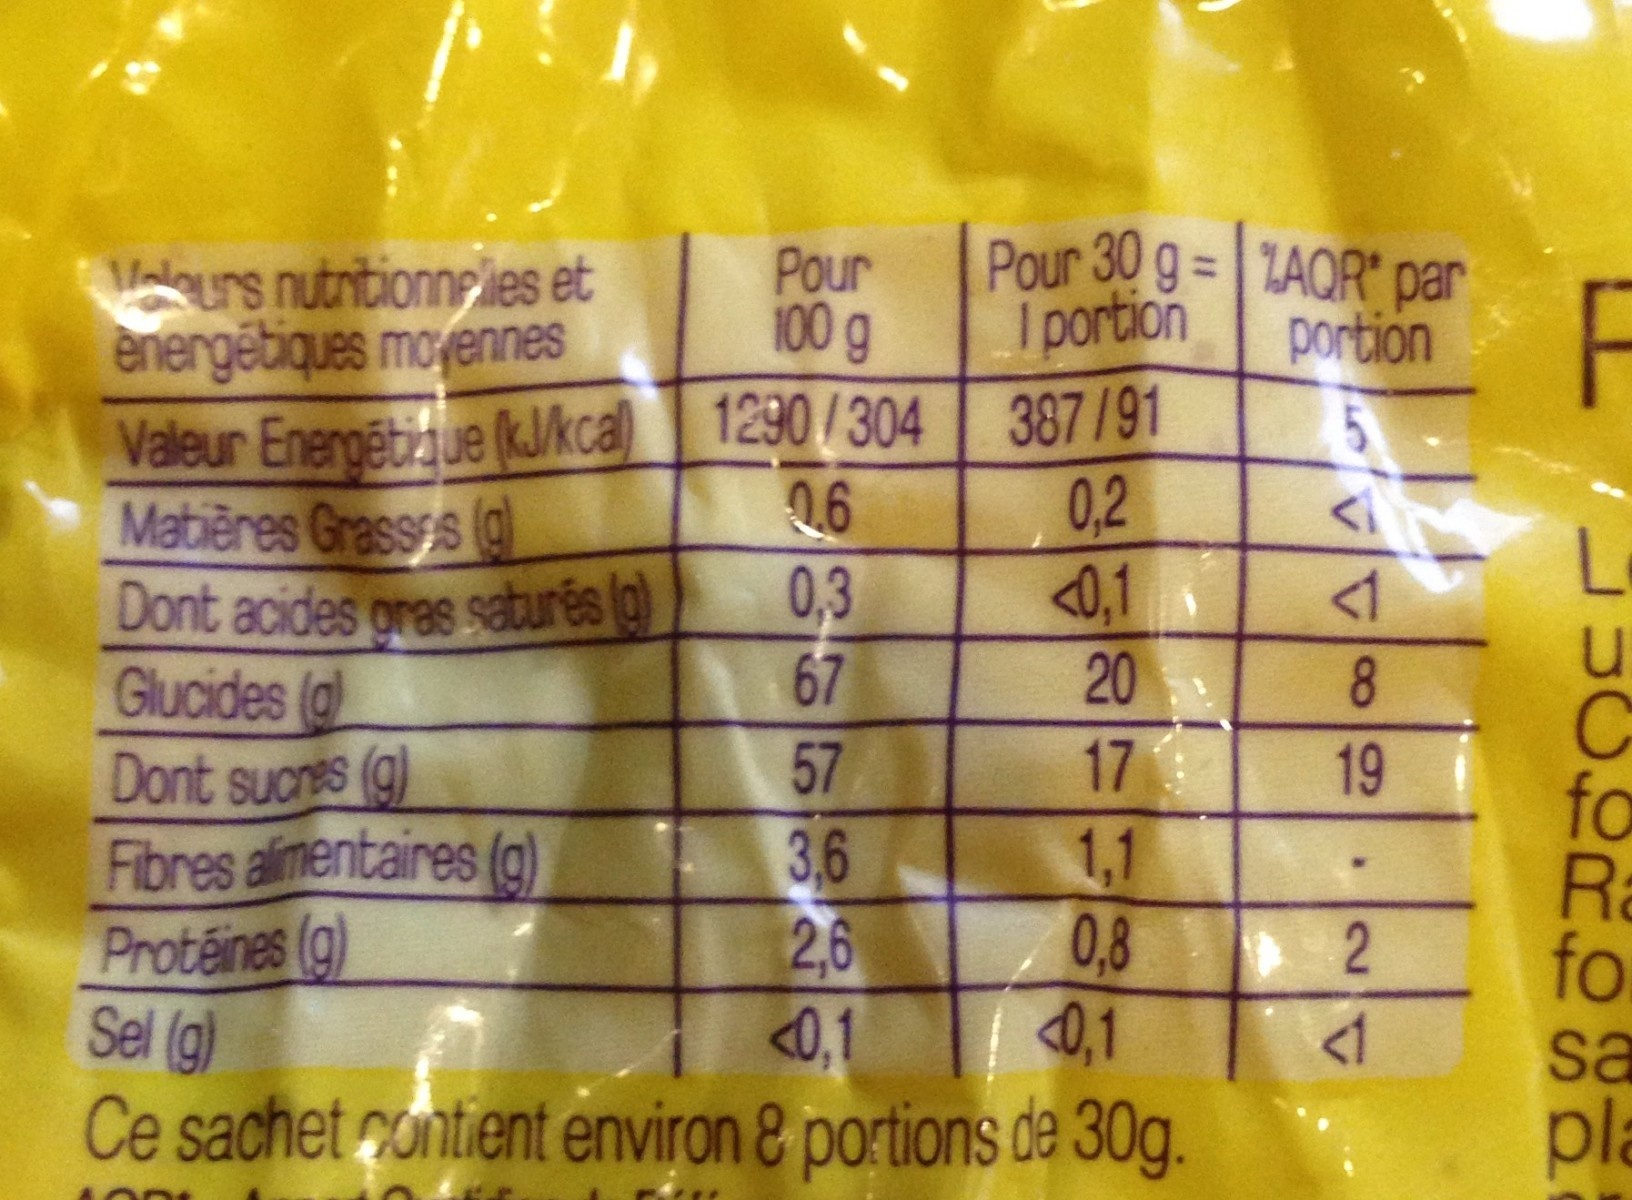column: (86, 260, 651, 1073), (987, 232, 1221, 1068), (1258, 238, 1469, 1073), (715, 246, 926, 1069)
table: (73, 223, 1480, 1086)
